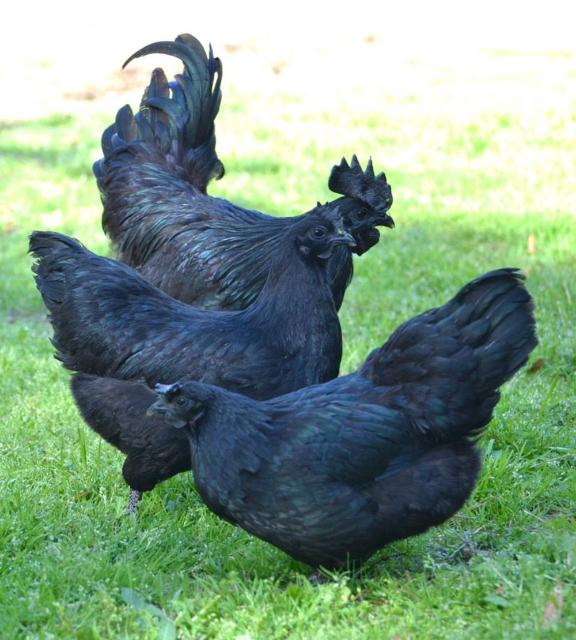Chicken: (144, 270, 540, 573), (27, 202, 357, 501), (93, 30, 397, 309)
